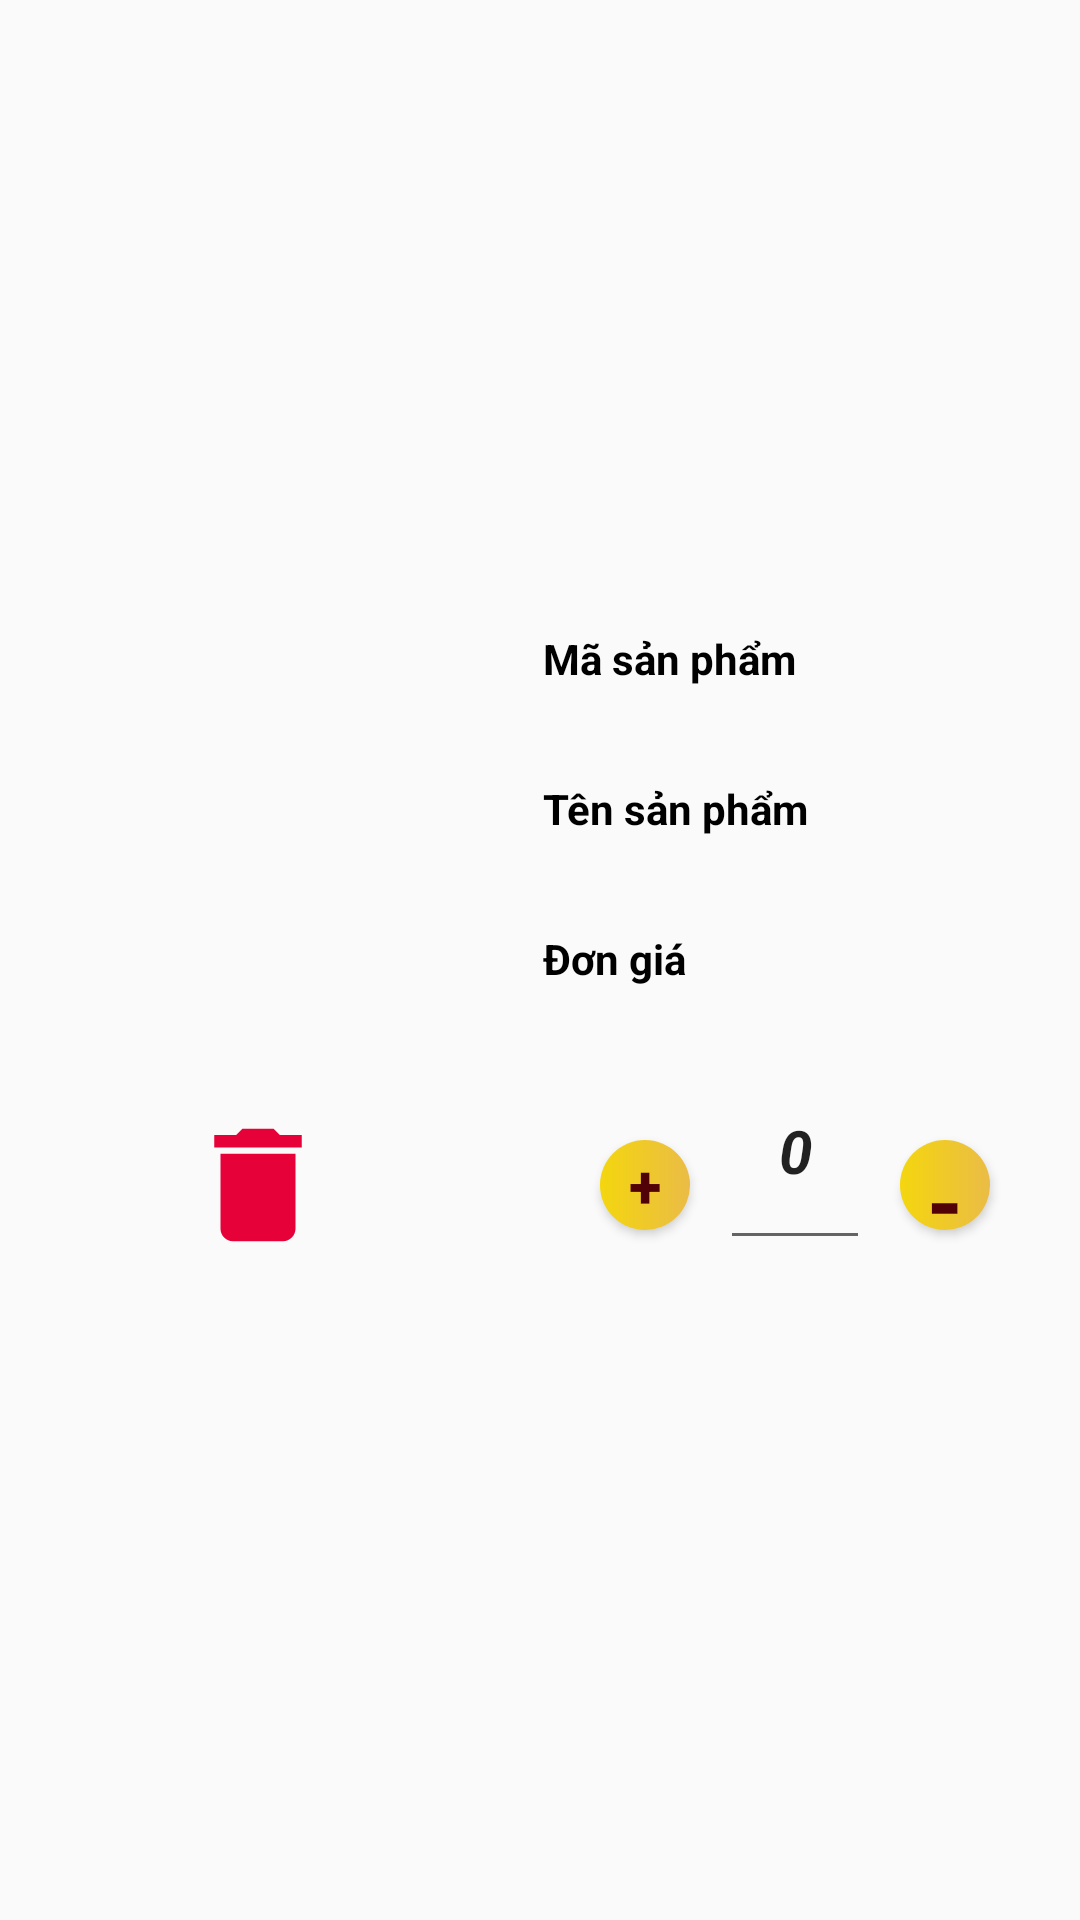

Icons on this 1080 x 1920 Android screen, each with its box as rect(x1, y1, x2, y2):
delete: rect(214, 1128, 302, 1242)
